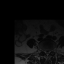CCS_normal: (46, 50, 48, 57)
LFS_severe_stenosis: (50, 48, 51, 52)
LLS_normal: (48, 49, 50, 55)
RFS_stenosis: (43, 48, 45, 53)
RLS_normal: (44, 49, 46, 55)
